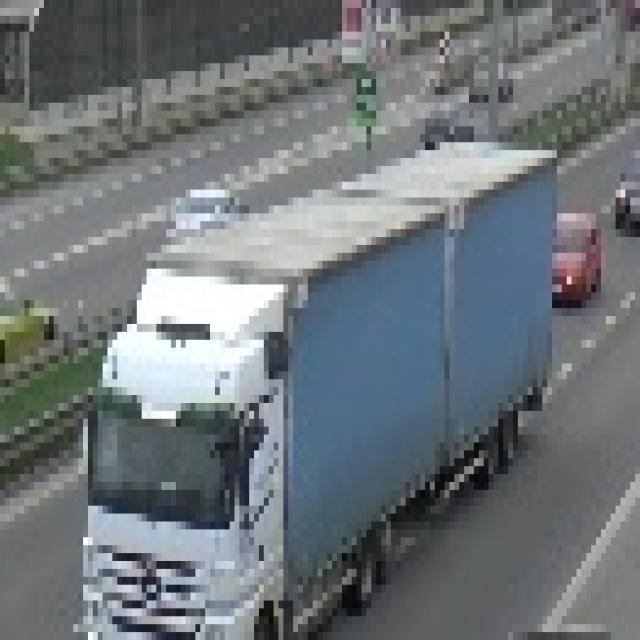SUV: (615, 144, 640, 235)
TRUCK: (74, 142, 542, 640)
